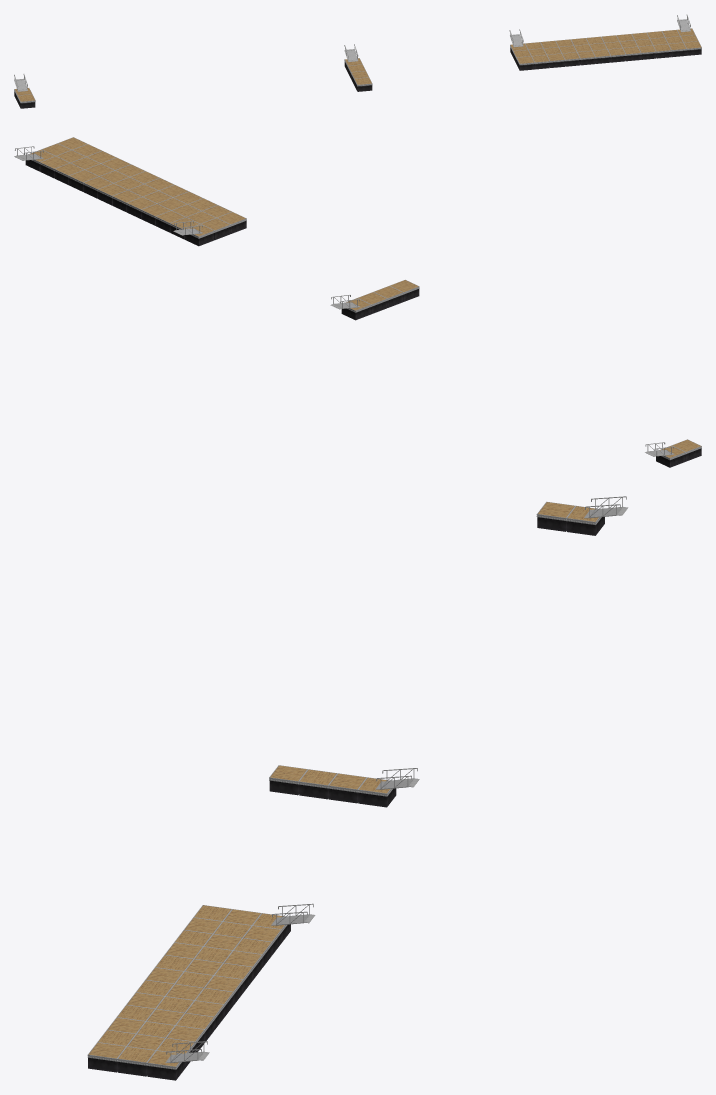
Rendered from t1_b_pier.glb.
3 views of the same model, one above another, from view 1: azimuth 30°, elevation 25°; view 2: azimuth 150°, elevation 25°; view 3: azimuth 270°, elevation 25° (orthographic). The views are drawn at different scales.
Visible parts, largest first — view 1: um_t1_b_pier_model_t1_b_pier_modelShape; view 2: um_t1_b_pier_model_t1_b_pier_modelShape; view 3: um_t1_b_pier_model_t1_b_pier_modelShape.
Boxes of the visible parts, left/top/right/bottom form: um_t1_b_pier_model_t1_b_pier_modelShape: left=14, top=14, right=701, bottom=108; um_t1_b_pier_model_t1_b_pier_modelShape: left=14, top=137, right=701, bottom=467; um_t1_b_pier_model_t1_b_pier_modelShape: left=87, top=496, right=628, bottom=1080.
Bounding box in the file's own units: 87.31 × 2.34 × 35.22.
1 material, 1 textured.
